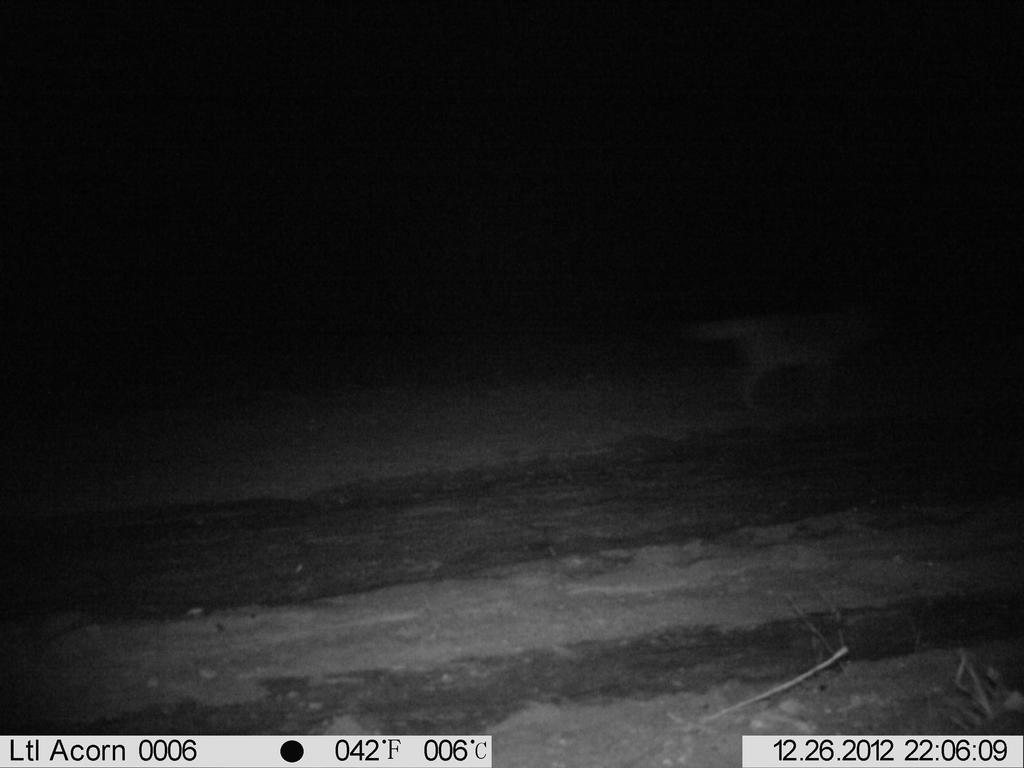coyote: (684, 293, 890, 417)
